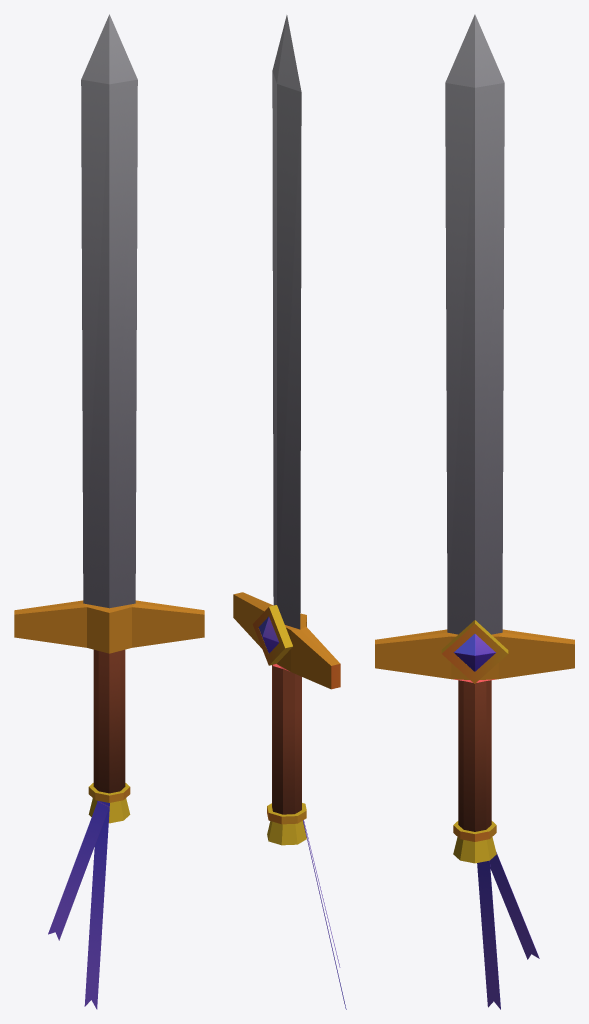
File: sword_3.fbx
3 views of the same model, side by side, from view 1: azimuth 90°, elevation 25°; view 2: azimuth 210°, elevation 25°; view 3: azimuth 270°, elevation 25° (orthographic). The views are drawn at different scales.
Visible parts, largest first — view 1: polySurface7; view 2: polySurface7; view 3: polySurface7.
Part boxes in pixels (x1,y1,x2,y2): polySurface7: (14,14,204,1009); polySurface7: (233,15,346,1009); polySurface7: (375,14,574,1009).
Size of the model in its own units: 9.52 by 119 by 21.18.
